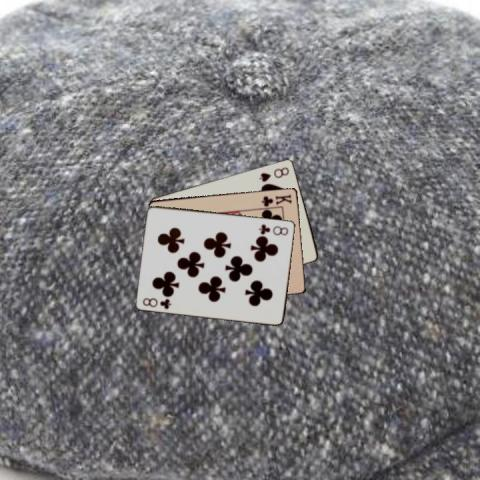8c: (256, 221, 290, 237), (140, 295, 173, 310)
8s: (256, 164, 291, 183)
Kc: (259, 191, 293, 207)
